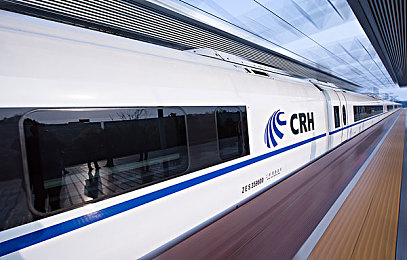hsrw: (1, 8, 402, 258)
